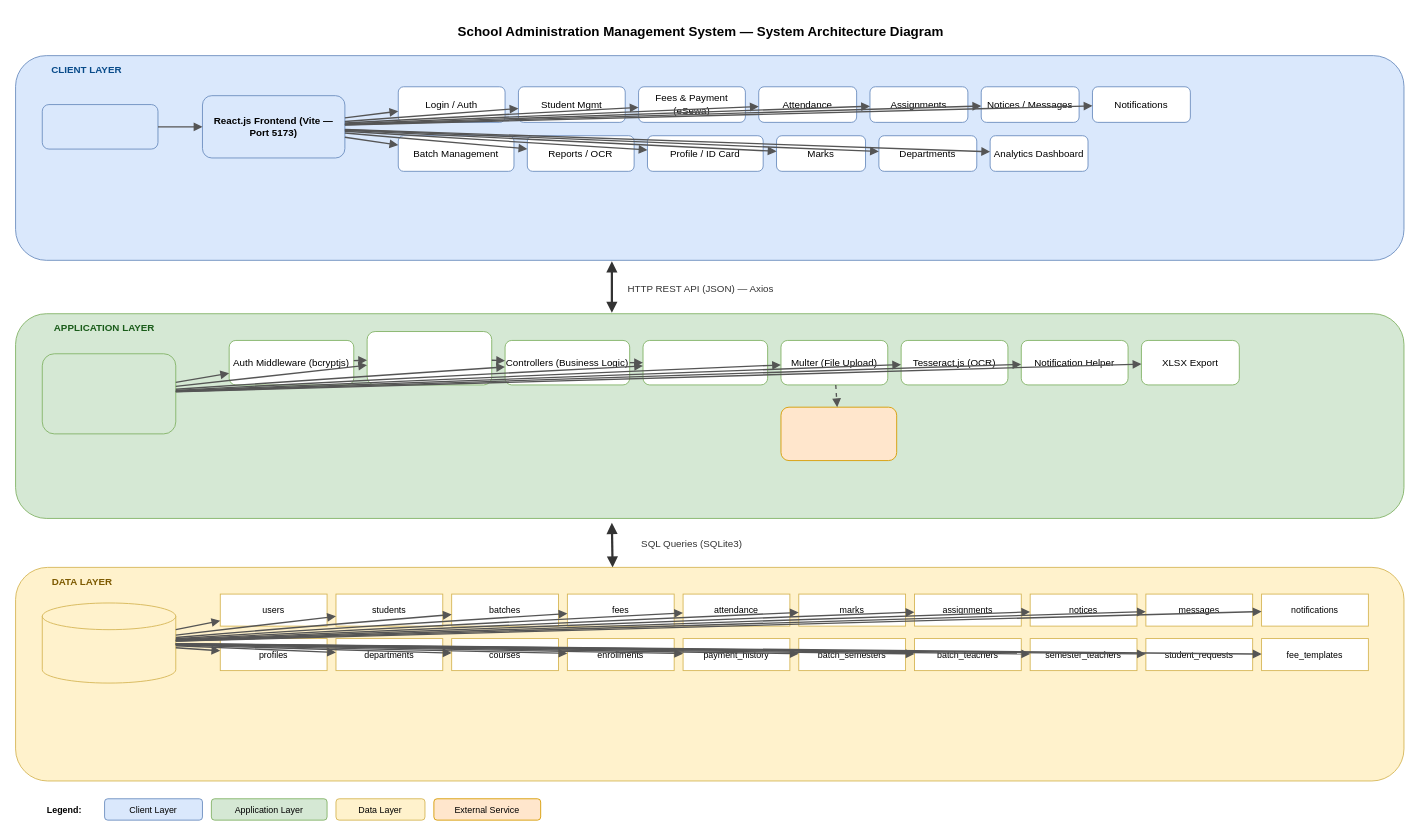
This 1420x836 diagram has some shape labels left out. The shapes that lost their labels are listed below. From the top down, each one's box as (x1, y1, x2, y2) in pixels, then its label:
(41, 104, 158, 149): Web Browser
(366, 331, 492, 385): API Routes (/api/students, /api/fees ...)
(642, 340, 768, 385): DB Helpers (dbHelpers.js)
(41, 353, 176, 434): Node.js + Express.js Backend Server (Port 3001)
(780, 406, 897, 461): eSewa Payment Gateway (External API)
(41, 602, 176, 683): SQLite Database (database.sqlite)
